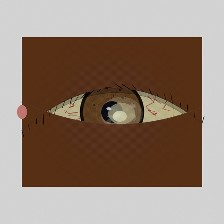corneal_ulcer: (100, 96, 144, 131)
